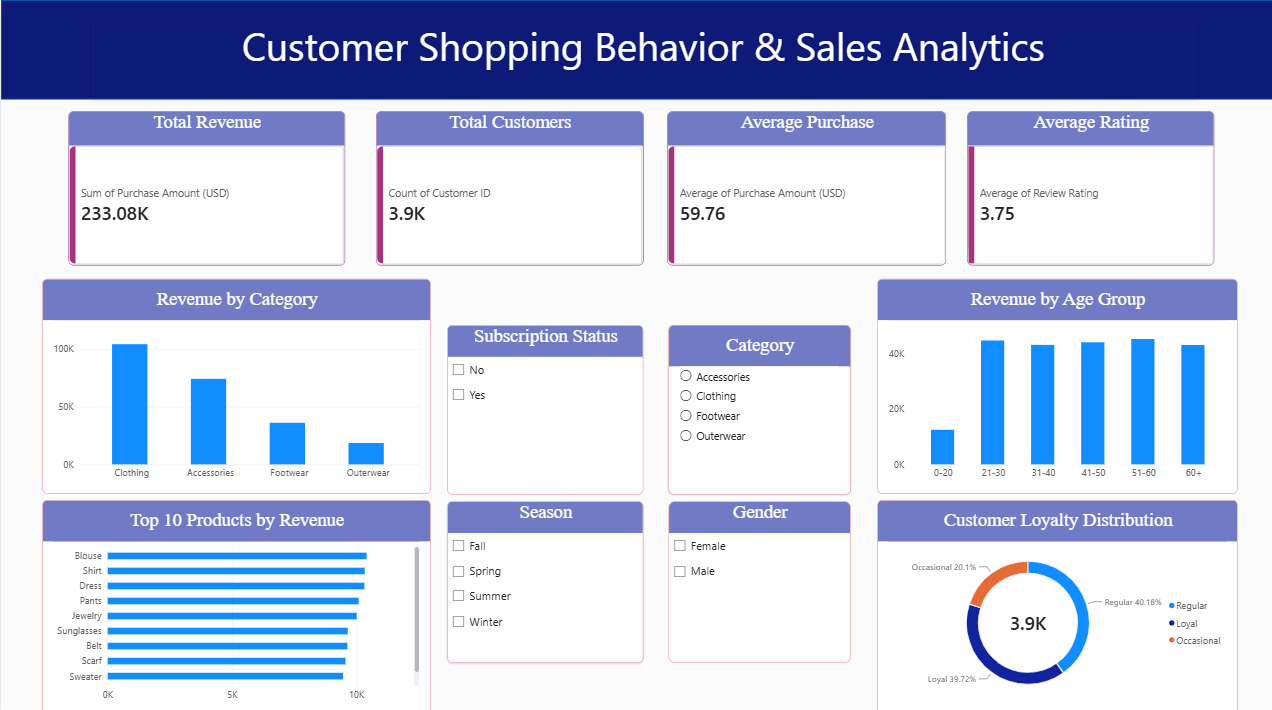

The page's visual inventory and layout, read from the dashboard file:
{"tool":"powerbi","page":{"name":"Page 1","canvas":[1920,1080],"ordinal":0},"visuals":[{"type":"cardVisual","title":"Total Revenue","fields":{"Data":["Sum(customer_shopping_behavior_cleaned.Purchase Amount (USD))"]},"box":[101.9,167.3,417.3,232.7],"z":0},{"type":"cardVisual","title":"Total Customers","fields":{"Data":["Count(customer_shopping_behavior_cleaned.Customer ID)"]},"box":[565.4,167.3,403.8,232.7],"z":1000},{"type":"cardVisual","title":"Average Purchase","fields":{"Data":["Avg(customer_shopping_behavior_cleaned.Purchase Amount (USD))"]},"box":[1005.8,167.3,421.2,232.7],"z":2000},{"type":"cardVisual","title":"Average Rating","fields":{"Data":["Avg(customer_shopping_behavior_cleaned.Review Rating)"]},"box":[1457.7,167.3,373.1,232.7],"z":3000},{"type":"clusteredColumnChart","title":"Revenue by Category","fields":{"Category":["customer_shopping_behavior_cleaned.Category"],"Y":["Sum(customer_shopping_behavior_cleaned.Purchase Amount (USD))"]},"box":[62.3,420.8,586.5,325],"z":4000},{"type":"donutChart","title":"Customer Loyalty Distribution","fields":{"Y":["CountNonNull(customer_shopping_behavior_cleaned.Customer ID)"],"Category":["customer_shopping_behavior_cleaned.Customer Loyalty"]},"box":[1322.6,754.7,544.2,325],"z":5000},{"type":"clusteredBarChart","title":"Top 10 Products by Revenue","fields":{"Category":["customer_shopping_behavior_cleaned.Item Purchased"],"Y":["Sum(customer_shopping_behavior_cleaned.Purchase Amount (USD))"]},"box":[62.3,754.7,586.5,325],"z":6000},{"type":"slicer","title":"Gender","fields":{"Values":["customer_shopping_behavior_cleaned.Gender"]},"box":[1007.7,755.8,275,244.2],"z":7000},{"type":"listSlicer","fields":{"Values":["customer_shopping_behavior_cleaned.Category"]},"box":[1007.7,490.4,275,255.8],"z":8000},{"type":"slicer","title":"Season","fields":{"Values":["customer_shopping_behavior_cleaned.Season"]},"box":[673.1,755.8,296.2,244.2],"z":9000},{"type":"slicer","title":"Subscription Status","fields":{"Values":["customer_shopping_behavior_cleaned.Subscription Status"]},"box":[673.1,490.4,296.2,255.8],"z":10000},{"type":"shape","box":[0,0,1920,150],"z":11000},{"type":"textbox","box":[140,28,1660,122.5],"z":12000},{"type":"clusteredColumnChart","title":"Revenue by Age Group","fields":{"Y":["Sum(customer_shopping_behavior_cleaned.Purchase Amount (USD))"],"Category":["customer_shopping_behavior_cleaned.Age Group"]},"box":[1322.6,420.8,544.2,325],"z":13000}]}

Visuals, with their boxes in screenshot pixels (x1, y1, x2, y2), scaled from the page's 1920x1080 canvas onto the 1272x710 screenshot:
"Total Revenue" cardVisual: select_region(68, 110, 344, 263)
"Total Customers" cardVisual: select_region(375, 110, 642, 263)
"Average Purchase" cardVisual: select_region(666, 110, 945, 263)
"Average Rating" cardVisual: select_region(966, 110, 1213, 263)
"Revenue by Category" clusteredColumnChart: select_region(41, 277, 430, 490)
"Customer Loyalty Distribution" donutChart: select_region(876, 496, 1237, 709)
"Top 10 Products by Revenue" clusteredBarChart: select_region(41, 496, 430, 709)
"Gender" slicer: select_region(668, 497, 850, 657)
listSlicer - customer_shopping_behavior_cleaned.Category: select_region(668, 322, 850, 491)
"Season" slicer: select_region(446, 497, 642, 657)
"Subscription Status" slicer: select_region(446, 322, 642, 491)
shape: select_region(0, 0, 1271, 99)
textbox: select_region(93, 18, 1192, 99)
"Revenue by Age Group" clusteredColumnChart: select_region(876, 277, 1237, 490)
